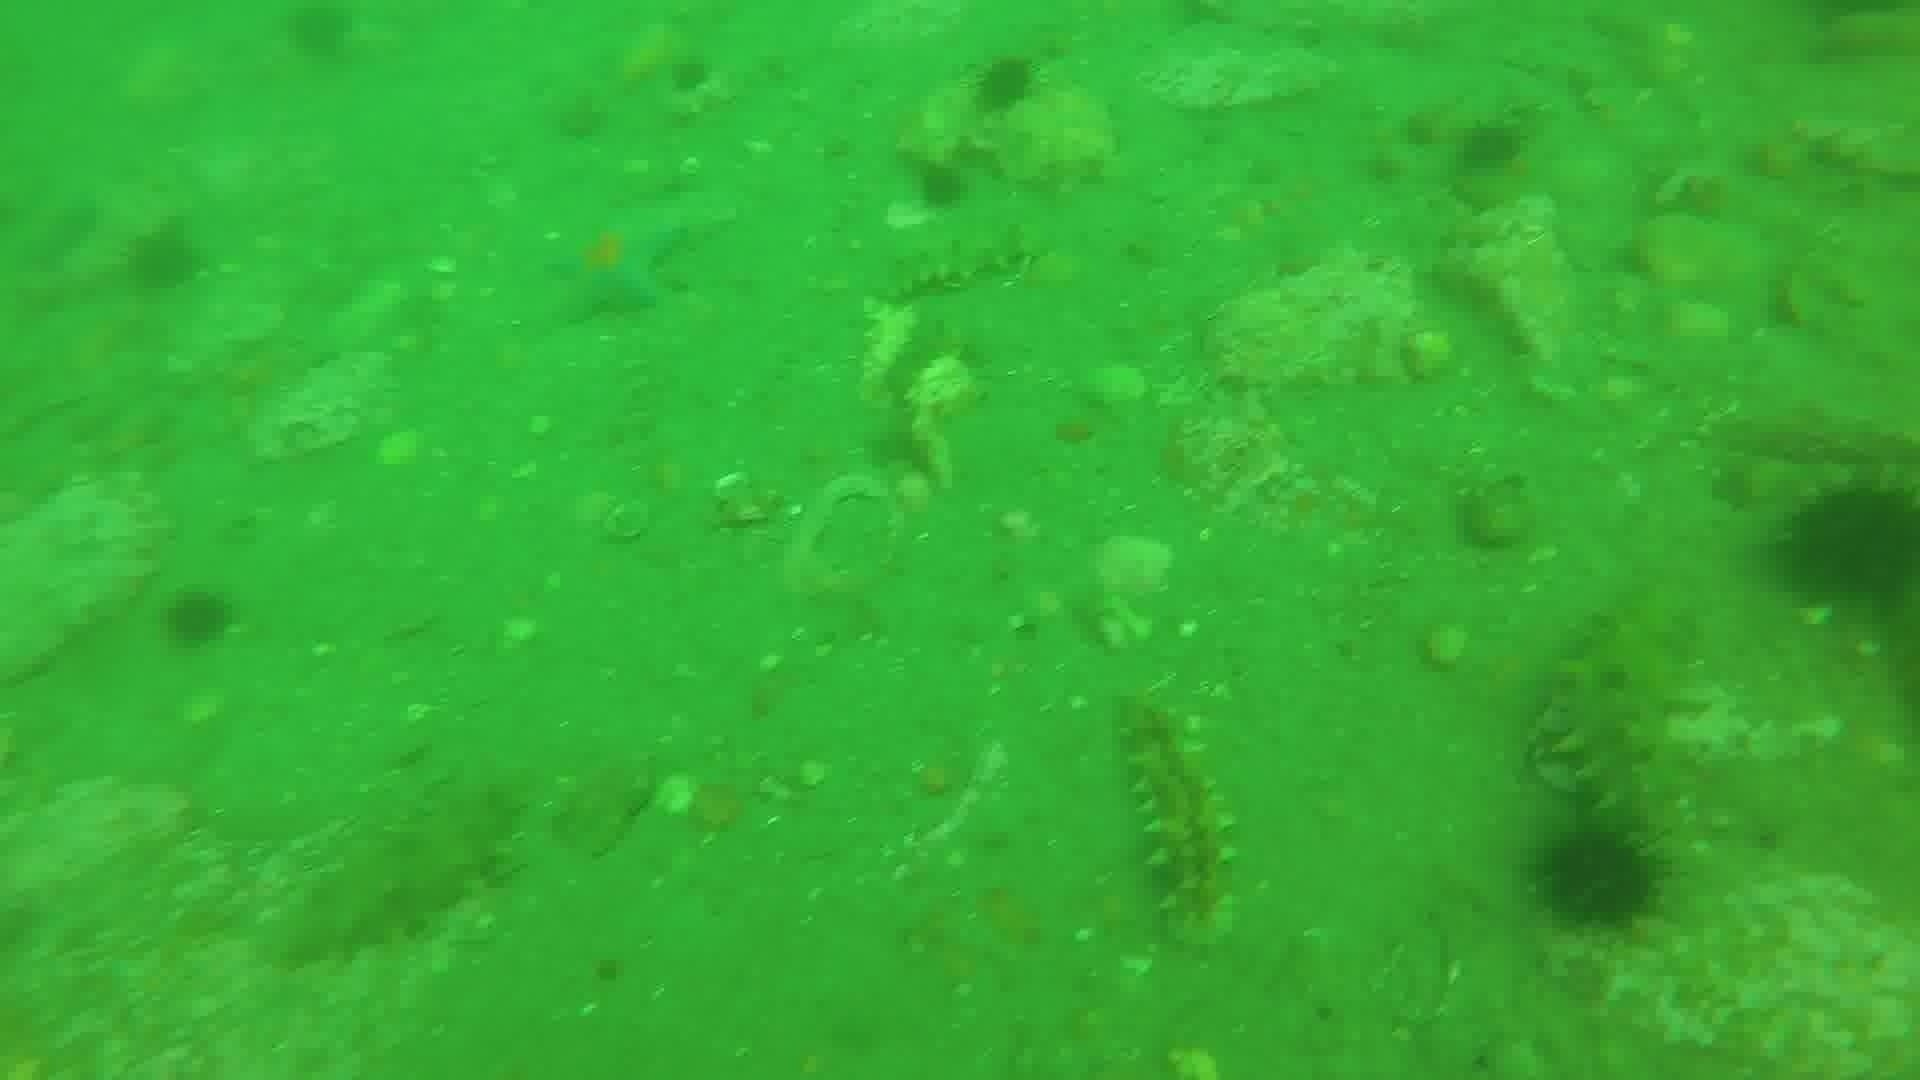echinus: (1774, 476, 1919, 613), (1530, 818, 1668, 936), (121, 223, 206, 298), (157, 584, 239, 653), (965, 50, 1044, 119), (278, 3, 363, 65), (1451, 116, 1530, 179), (910, 158, 973, 216)
holothurian: (268, 770, 526, 971), (1538, 591, 1701, 829), (1113, 698, 1244, 951), (874, 214, 1051, 305), (1727, 398, 1920, 481)
starfish: (543, 204, 688, 324)
